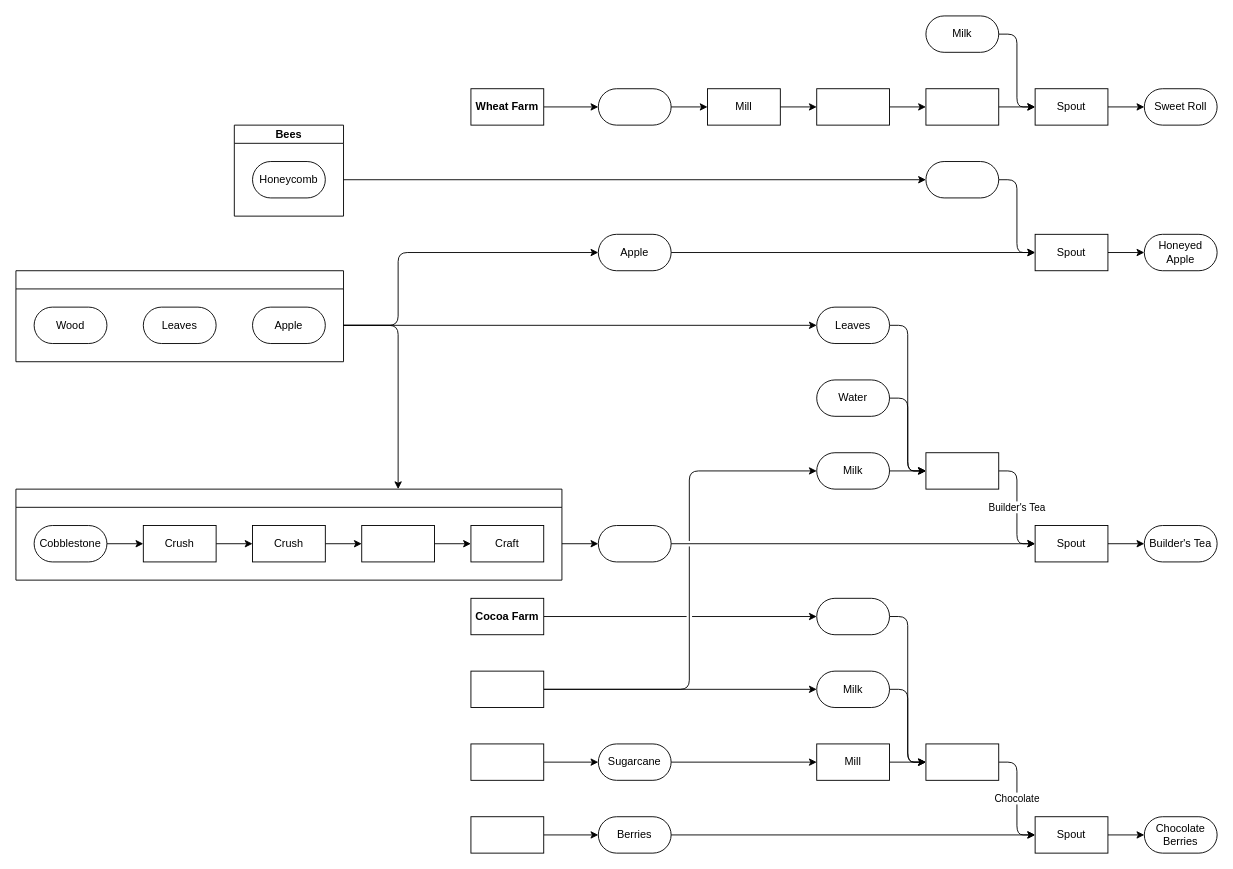
Some shapes in this 1233 by 869 pixel diagram are drawn without their labels. The box of each missing label's shape, as (x1, y1, x2, y2) in pixels:
Berry Farm: (470, 816, 544, 853)
Bottle: (597, 525, 671, 562)
Cobbleworks: (15, 488, 562, 580)
Cocoa Beans: (816, 597, 890, 635)
Cow Farm: (470, 670, 544, 708)
Honey: (925, 161, 999, 198)
Mixing: (925, 452, 999, 489)
Mixing (Heated): (925, 743, 999, 780)
Orchard: (15, 270, 344, 362)
Smelt: (361, 525, 435, 562)
Smoking: (925, 88, 999, 125)
Sugar Farm: (470, 743, 544, 780)
Washing: (816, 88, 890, 125)
Wheat: (597, 88, 671, 125)
